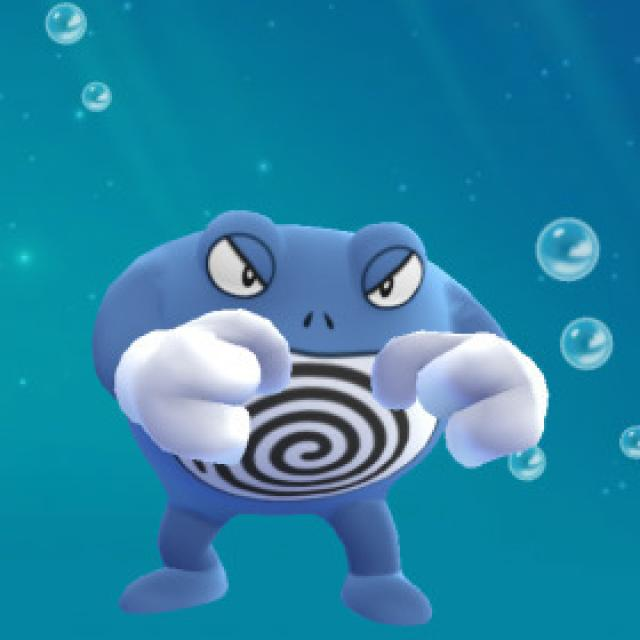Poliwrath: (101, 216, 492, 581)
